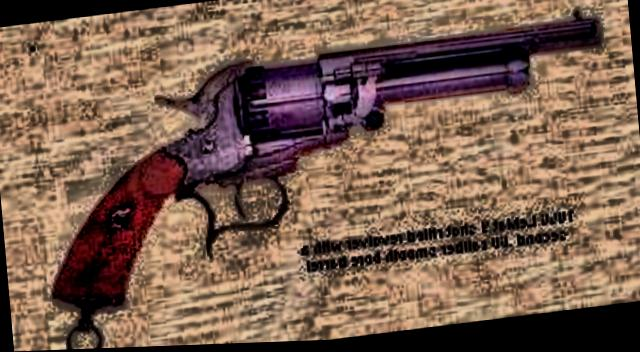pistol: (28, 4, 621, 322)
